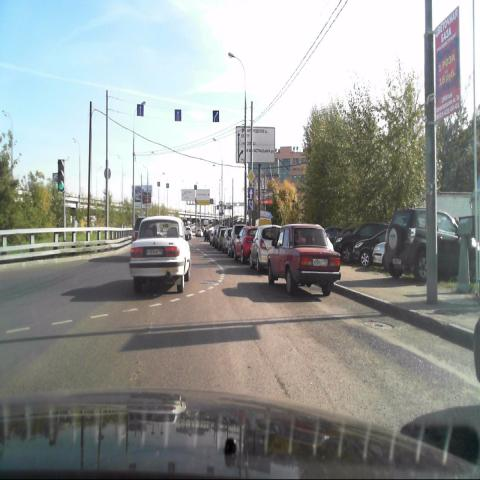2_1: (246, 168, 254, 183)
5_15_2: (211, 109, 219, 123), (136, 103, 144, 116), (174, 109, 182, 121)
5_15_3: (247, 199, 254, 210)
5_5: (247, 185, 254, 197)
